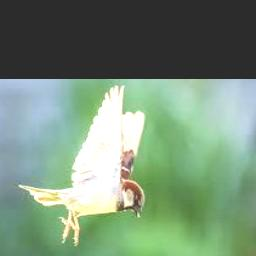Sparrow: (18, 85, 147, 245)
